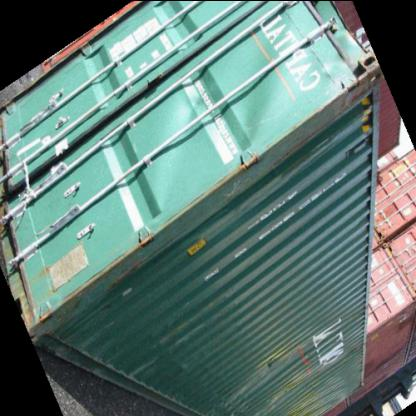Damage: (188, 25, 375, 204), (235, 314, 367, 416), (30, 242, 150, 332)
